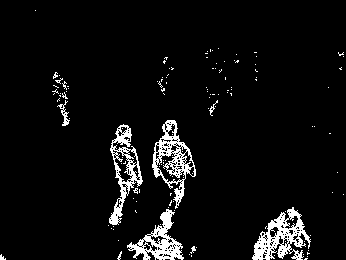person: (151, 118, 198, 230), (104, 123, 144, 227), (51, 70, 72, 126)
